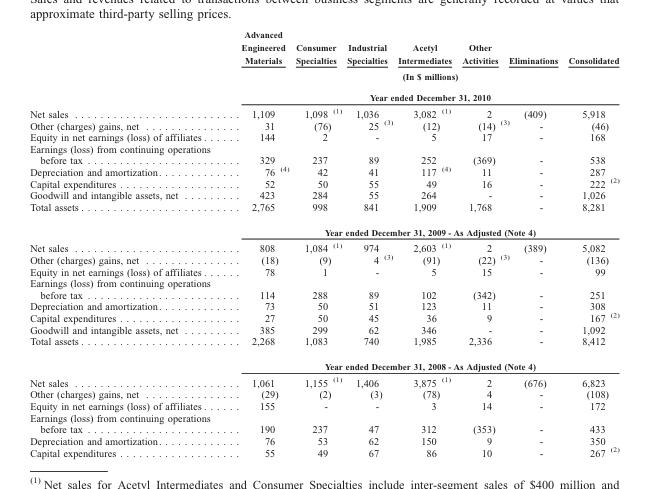table: (29, 28, 618, 457)
table column: (29, 28, 225, 457), (225, 28, 291, 457), (394, 28, 456, 457), (562, 28, 618, 457), (508, 28, 562, 457), (291, 28, 343, 457), (456, 28, 508, 457), (343, 28, 394, 457)
table column header: (29, 28, 618, 104)
table row: (29, 28, 618, 68), (29, 68, 618, 104), (29, 276, 618, 300), (29, 142, 618, 165), (29, 411, 618, 434), (29, 353, 618, 373), (29, 200, 618, 219), (29, 219, 618, 238), (29, 335, 618, 353), (29, 373, 618, 388), (29, 104, 618, 118), (29, 238, 618, 252), (29, 176, 618, 189), (29, 252, 618, 265), (29, 118, 618, 130), (29, 130, 618, 142), (29, 311, 618, 323), (29, 323, 618, 335), (29, 399, 618, 411), (29, 445, 618, 457), (29, 165, 618, 176), (29, 189, 618, 200), (29, 265, 618, 276), (29, 300, 618, 311), (29, 388, 618, 399), (29, 434, 618, 445)
table spanning cell: (225, 68, 618, 104), (225, 353, 618, 373), (225, 219, 618, 238)
